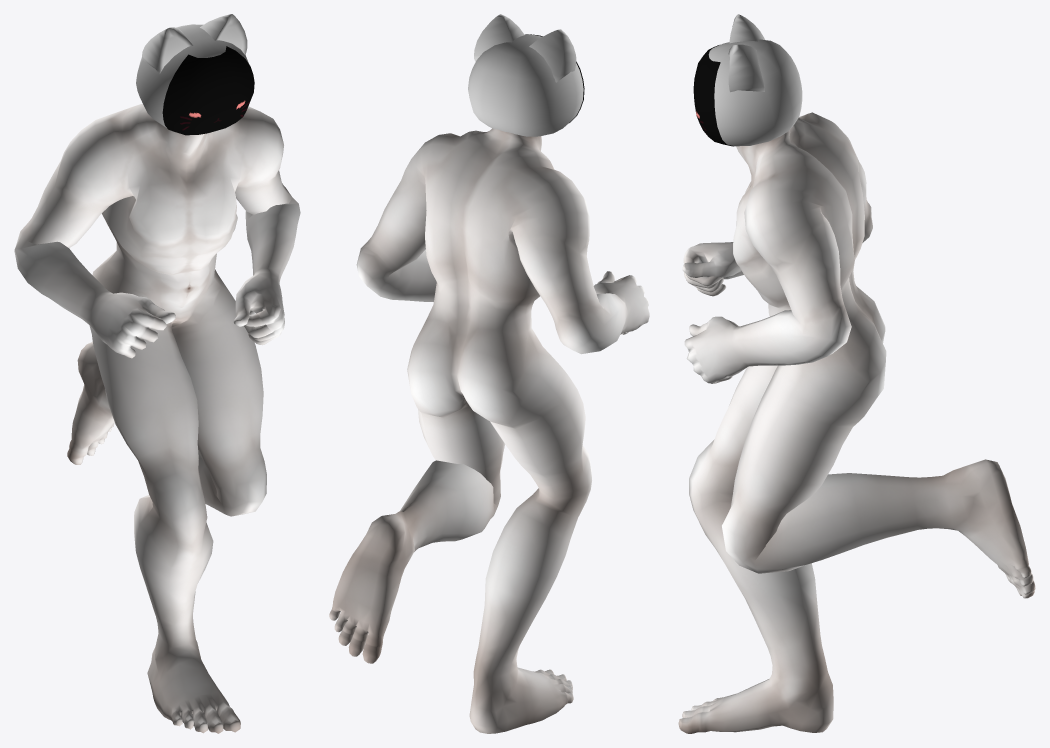
3 renders of one model, left to right at view 1: azimuth 30°, elevation 25°; view 2: azimuth 150°, elevation 25°; view 3: azimuth 270°, elevation 25°, orthographic. The views are drawn at different scales.
Parts seen in each view (by area): view 1: Muscle_Body, ______?001, Cat_Head; view 2: Muscle_Body, Cat_Head; view 3: Muscle_Body, Cat_Head, ______?001.
Part boxes in pixels (box(x1,y1,x2,y2)): Muscle_Body: box(14, 104, 300, 733); ______?001: box(162, 46, 254, 135); Cat_Head: box(136, 14, 248, 127); Muscle_Body: box(329, 128, 649, 733); Cat_Head: box(468, 14, 583, 136); Muscle_Body: box(678, 112, 1035, 733); Cat_Head: box(708, 14, 802, 146); ______?001: box(693, 45, 733, 146).
Size of the model in its own units: 10.83 by 27.06 by 12.53.
